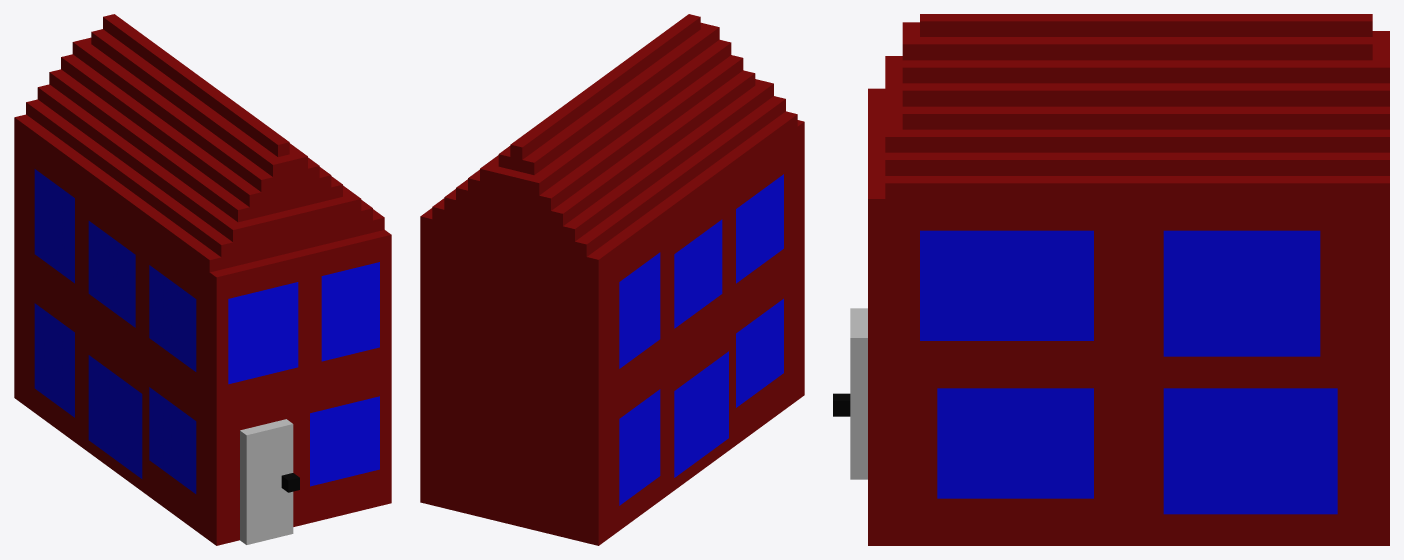
The model's file is iTrmk5N7y8Q.obj.
The picture shows the model from 3 angles, left to right: view 1: azimuth 30°, elevation 25°; view 2: azimuth 150°, elevation 25°; view 3: azimuth 270°, elevation 25°; orthographic projection. The views are drawn at different scales.
Parts seen in each view (by area): view 1: mesh; view 2: mesh; view 3: mesh.
Boxes of the visible parts, x1=… form: mesh: x1=14, y1=14, x2=391, y2=545; mesh: x1=420, y1=14, x2=804, y2=545; mesh: x1=833, y1=14, x2=1389, y2=545.
Size of the model in its own units: 1.5 by 3 by 3.2.
Materials: 1 (1 with a texture image).
